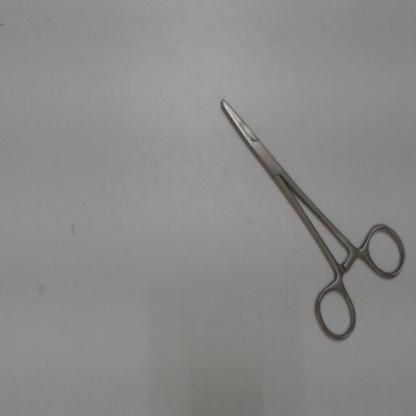Mayo Needle Holder: (207, 80, 412, 348)
